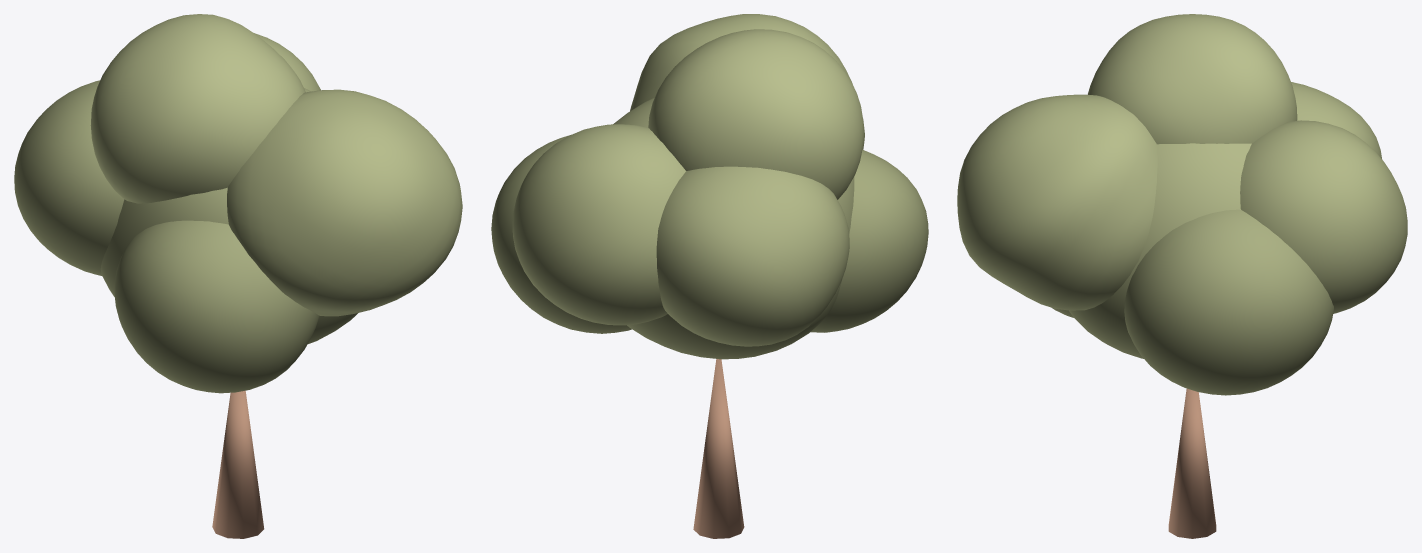
File: tree_a.glb
3 views of the same model, side by side, from view 1: azimuth 30°, elevation 25°; view 2: azimuth 150°, elevation 25°; view 3: azimuth 270°, elevation 25° (orthographic). The views are drawn at different scales.
Visible parts, largest first — view 1: crown, trunk; view 2: crown, trunk; view 3: crown, trunk.
Part boxes in pixels (left/top/right/bottom): crown: left=14, top=14, right=462, bottom=393; trunk: left=212, top=390, right=264, bottom=538; crown: left=491, top=14, right=928, bottom=359; trunk: left=693, top=359, right=744, bottom=538; crown: left=957, top=14, right=1407, bottom=395; trunk: left=1168, top=388, right=1216, bottom=538.
Bounding box in the file's own units: 5.12 × 6.88 × 5.76.
